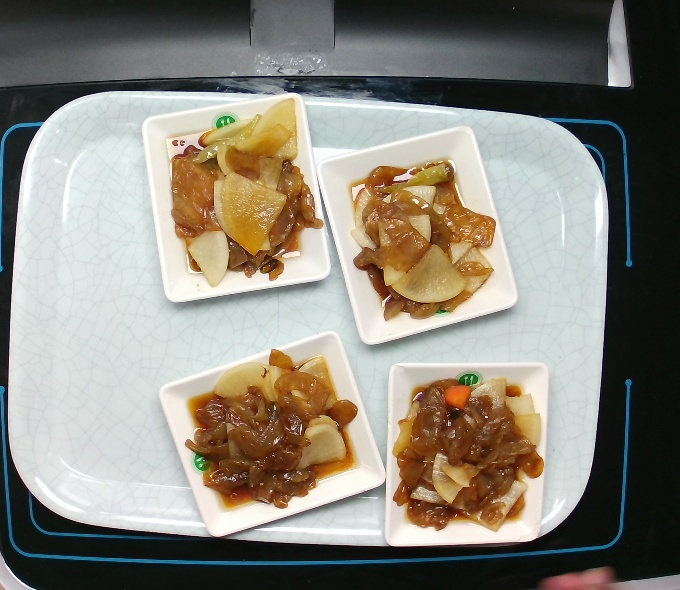wcq-HaiZheTou: (162, 95, 327, 292), (181, 345, 361, 514), (345, 153, 499, 326), (391, 373, 548, 534)
